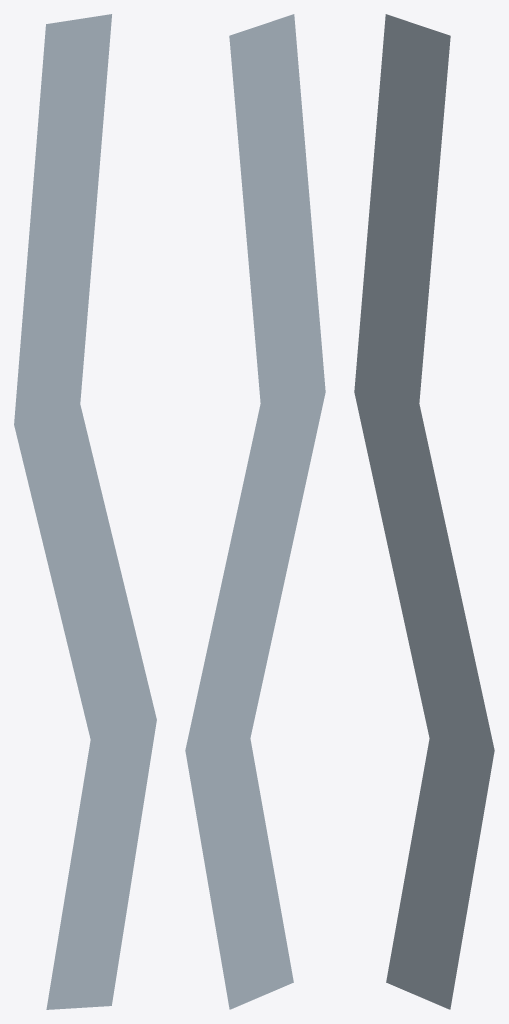
File: Qiqi_PreserverOfFortune_CastOnly_FortuneSealRay.fbx
3 renders of one model, left to right at view 1: azimuth 30°, elevation 25°; view 2: azimuth 210°, elevation 25°; view 3: azimuth 330°, elevation 25°, orthographic.
Parts seen in each view (by area): view 1: PART_OneAuthoredThinSealRay; view 2: PART_OneAuthoredThinSealRay; view 3: PART_OneAuthoredThinSealRay.
Boxes of the visible parts, bbox=[...] form: PART_OneAuthoredThinSealRay: bbox=[14, 14, 156, 1009]; PART_OneAuthoredThinSealRay: bbox=[185, 14, 325, 1009]; PART_OneAuthoredThinSealRay: bbox=[354, 14, 494, 1009].
Size of the model in its own units: 11.19 by 74.67 by 1.22e-05.
